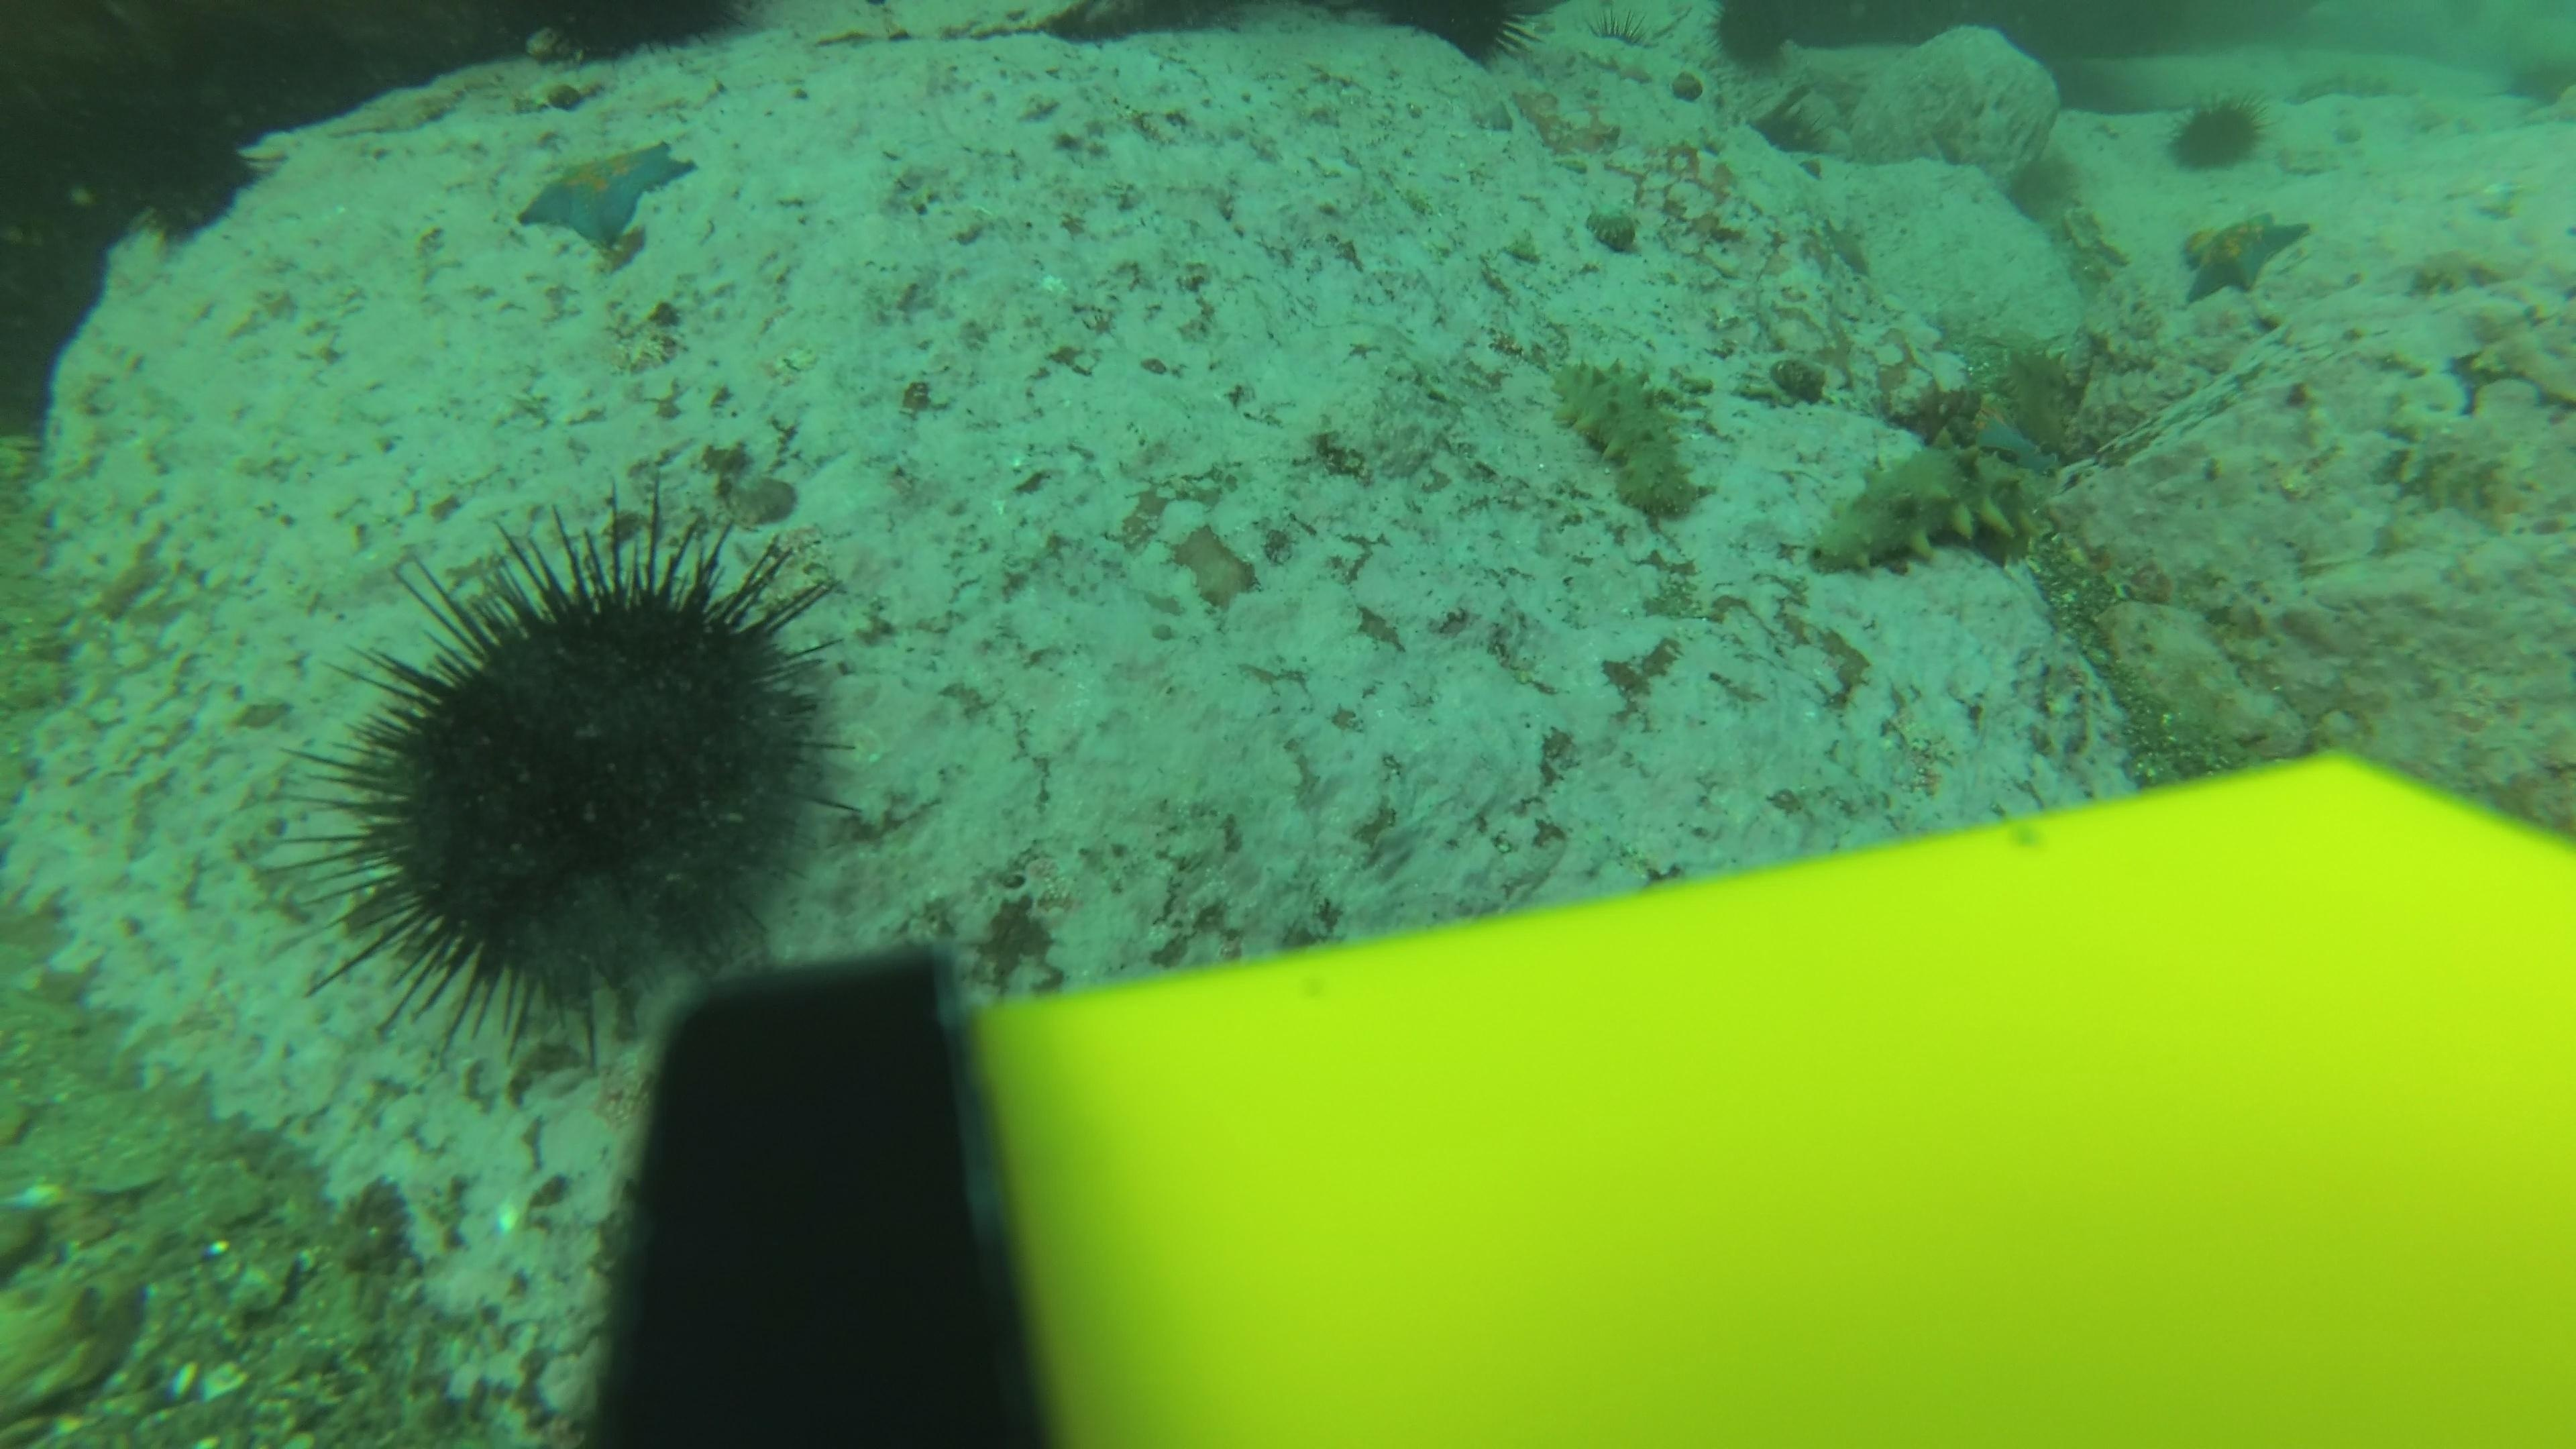echinus: (290, 508, 863, 1047), (120, 97, 269, 249), (1368, 2, 1545, 73), (2162, 88, 2270, 177), (1704, 2, 1806, 78)
holothurian: (1803, 437, 2052, 580), (1959, 288, 2127, 469), (1543, 349, 1709, 529)
starfish: (511, 134, 702, 255), (2174, 207, 2316, 308), (1962, 391, 2065, 472), (1810, 211, 1877, 281)
